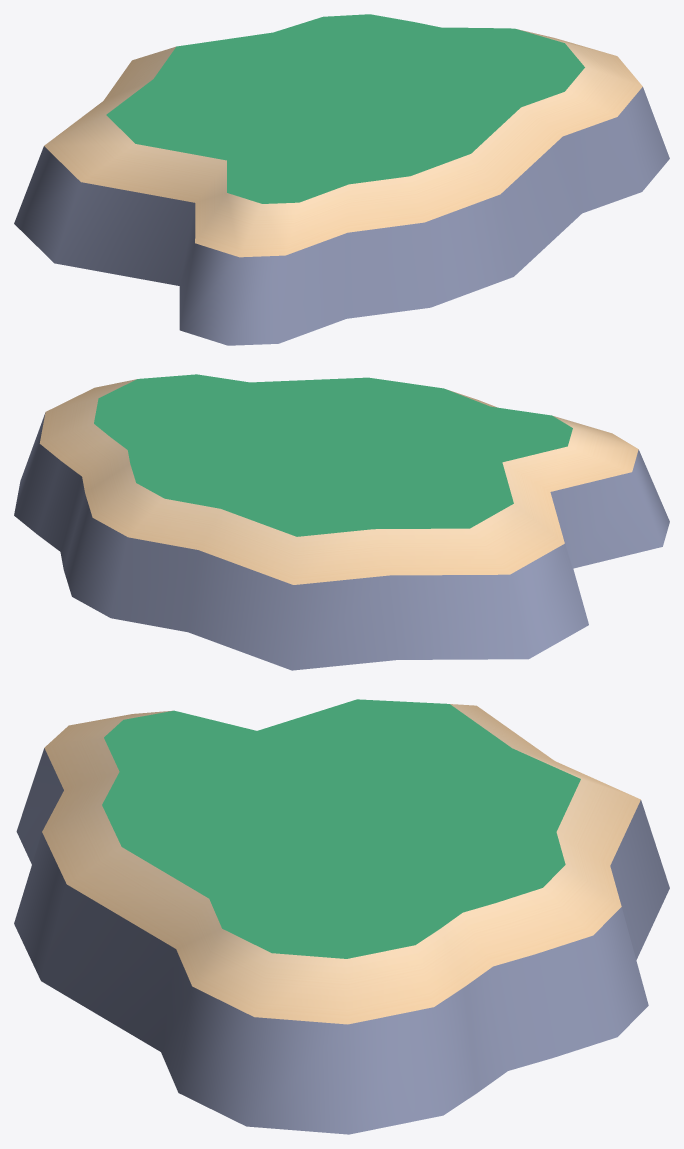
The model's file is Islandv2.fbx.
3 renders of one model, top to bottom at view 1: azimuth 30°, elevation 25°; view 2: azimuth 150°, elevation 25°; view 3: azimuth 270°, elevation 25°, orthographic. The views are drawn at different scales.
Parts seen in each view (by area): view 1: patch-grass; view 2: patch-grass; view 3: patch-grass.
Boxes of the visible parts, bbox=[...] form: patch-grass: bbox=[14, 14, 669, 345]; patch-grass: bbox=[14, 374, 669, 670]; patch-grass: bbox=[14, 699, 669, 1134].
Size of the model in its own units: 577 by 96.8 by 450.
